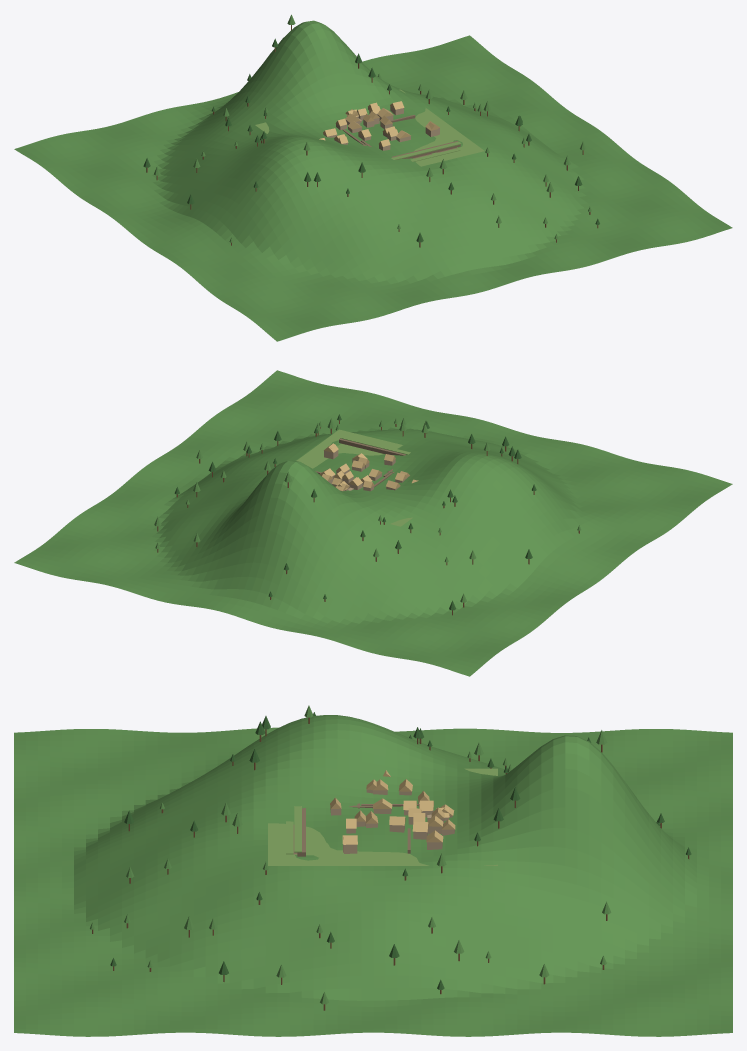
Rendered from MachuPicchu.glb.
The picture shows the model from 3 angles, top to bottom: view 1: azimuth 30°, elevation 25°; view 2: azimuth 150°, elevation 25°; view 3: azimuth 270°, elevation 25°; orthographic projection. The views are drawn at different scales.
Parts seen in each view (by area): view 1: MachuPicchu; view 2: MachuPicchu; view 3: MachuPicchu.
Boxes of the visible parts, box(x1,y1,x2,y2) form: MachuPicchu: box(14, 14, 732, 341); MachuPicchu: box(14, 370, 732, 676); MachuPicchu: box(14, 705, 732, 1036).
Size of the model in its own units: 300 by 72.13 by 300.
